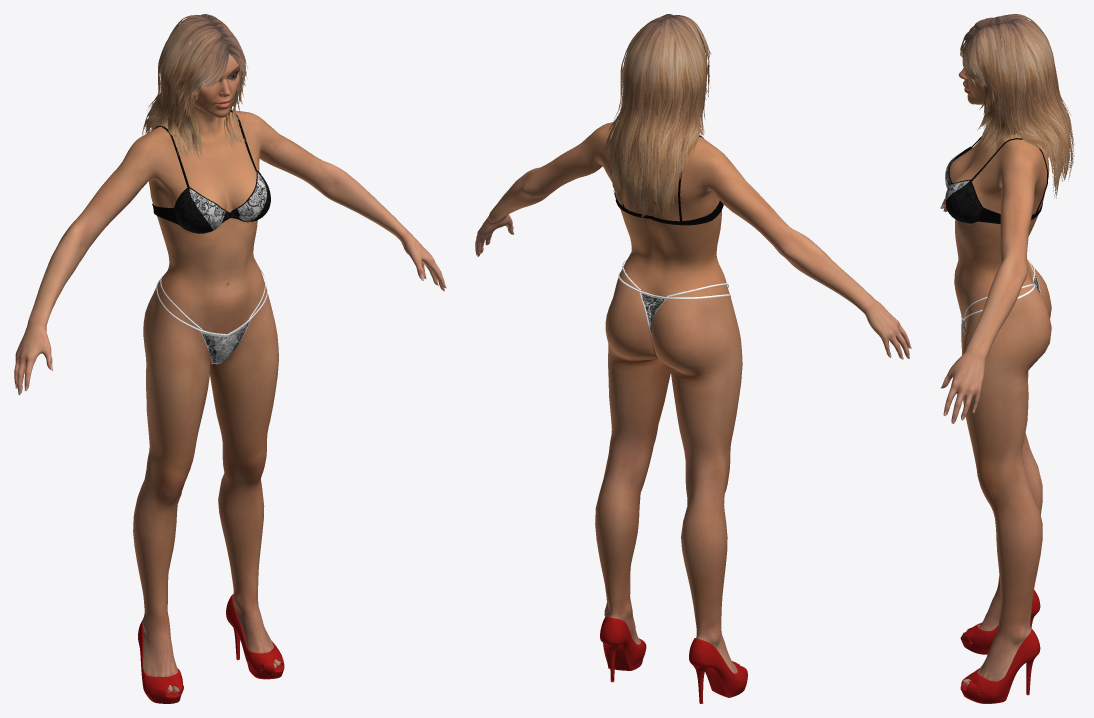
File: women_FBX.fbx
3 views of the same model, side by side, from view 1: azimuth 30°, elevation 25°; view 2: azimuth 150°, elevation 25°; view 3: azimuth 270°, elevation 25° (orthographic).
Visible parts, largest first — view 1: Group1, Group003, Group25671, Object009, Line003, Object010; view 2: Group1, Group003, Object010, Object009, Line003, Group25671; view 3: Group1, Group003, Object009, Group25671, Object010, Line003.
Boxes of the visible parts, x1,y1,x2,y2 form: Group1: (14,54,446,693); Group003: (142,14,248,159); Group25671: (152,110,270,233); Object009: (226,594,284,679); Line003: (156,270,267,364); Object010: (138,620,183,703); Group1: (475,36,911,673); Group003: (604,14,711,218); Object010: (689,638,747,703); Object009: (600,617,646,682); Line003: (618,260,730,343); Group25671: (614,135,723,225); Group1: (940,68,1051,685); Group003: (960,14,1074,198); Object009: (960,628,1040,703); Group25671: (945,136,1048,223); Object010: (960,590,1040,654); Line003: (961,259,1040,334).
Bounding box in the file's own units: 121 × 180 × 34.54.
Materials: 10 (7 with a texture image).
